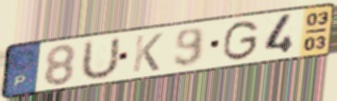4: (261, 11, 300, 58)
8: (43, 43, 78, 87)
9: (172, 27, 205, 70)
G: (220, 19, 262, 62)
K: (130, 31, 165, 75)
U: (77, 34, 123, 83)
